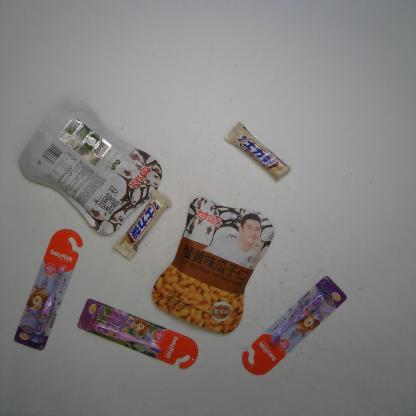Chocolate: (113, 190, 172, 260), (223, 121, 290, 182)
Dried Fruit: (19, 99, 163, 235), (152, 197, 276, 335)
Personal Hygiene: (241, 276, 347, 376), (78, 299, 200, 369), (13, 228, 83, 350)
